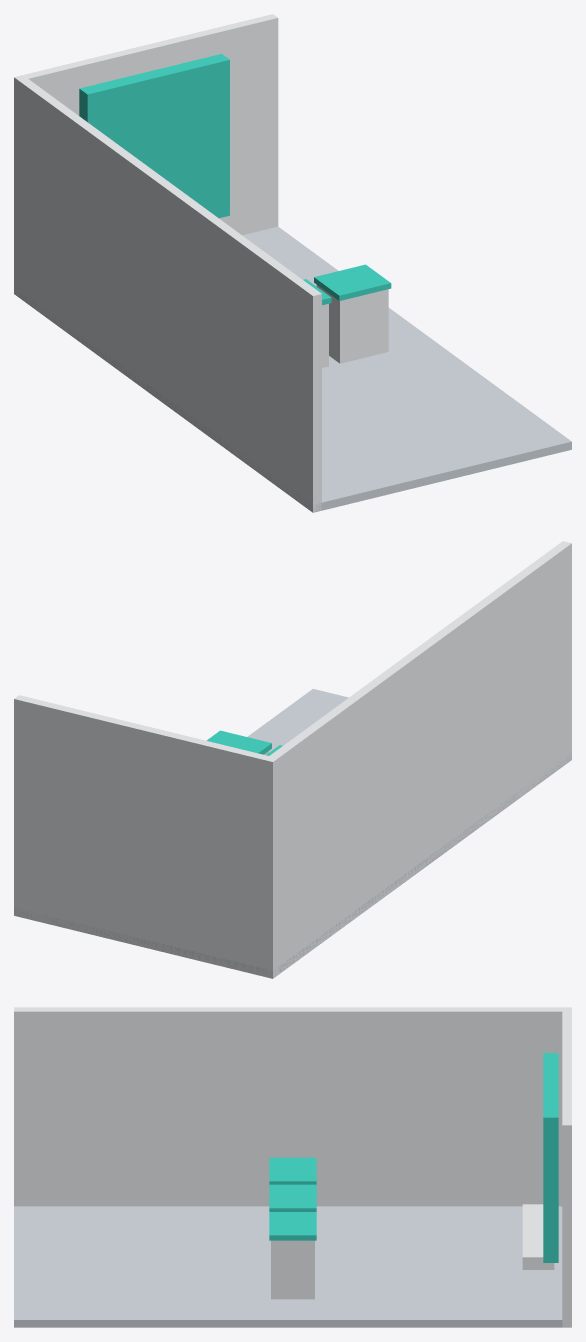
3 views of the same model, one above another, from view 1: azimuth 30°, elevation 25°; view 2: azimuth 150°, elevation 25°; view 3: azimuth 270°, elevation 25° (orthographic). The views are drawn at different scales.
Visible parts, largest first — view 1: Exhibition Booth Concept; view 2: Exhibition Booth Concept; view 3: Exhibition Booth Concept.
Boxes of the visible parts, x1=… form: Exhibition Booth Concept: x1=14, y1=14, x2=571, y2=512; Exhibition Booth Concept: x1=14, y1=541, x2=571, y2=978; Exhibition Booth Concept: x1=14, y1=1007, x2=571, y2=1327.
Bounding box in the file's own units: 4 × 3.2 × 8.
